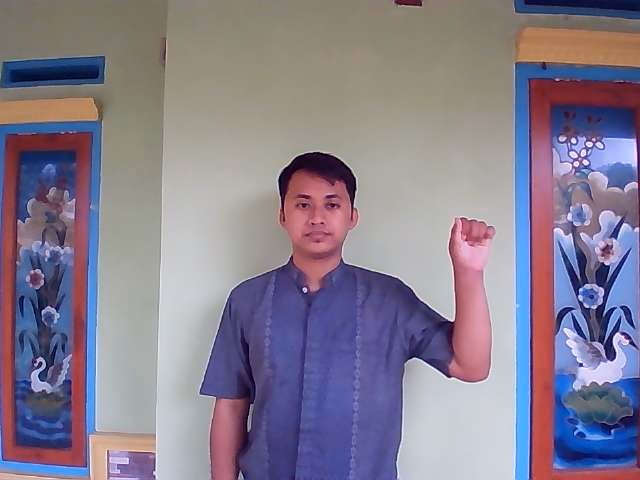A: (439, 209, 500, 293)
